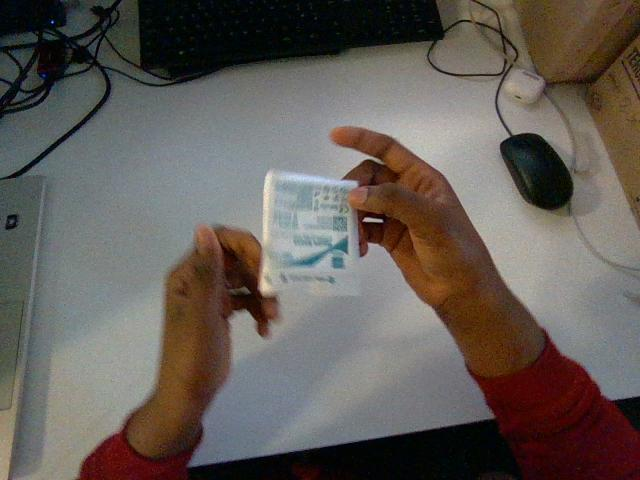gauze: (259, 170, 359, 295)
